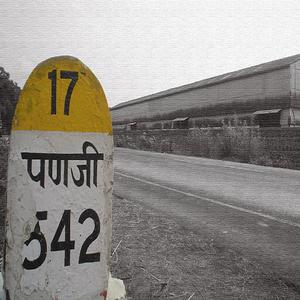kmstone: (7, 46, 115, 300)
